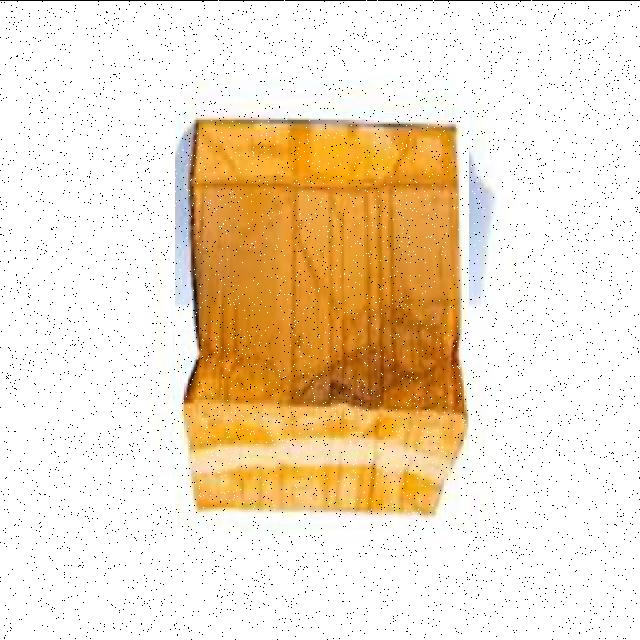defect: (176, 106, 470, 519)
